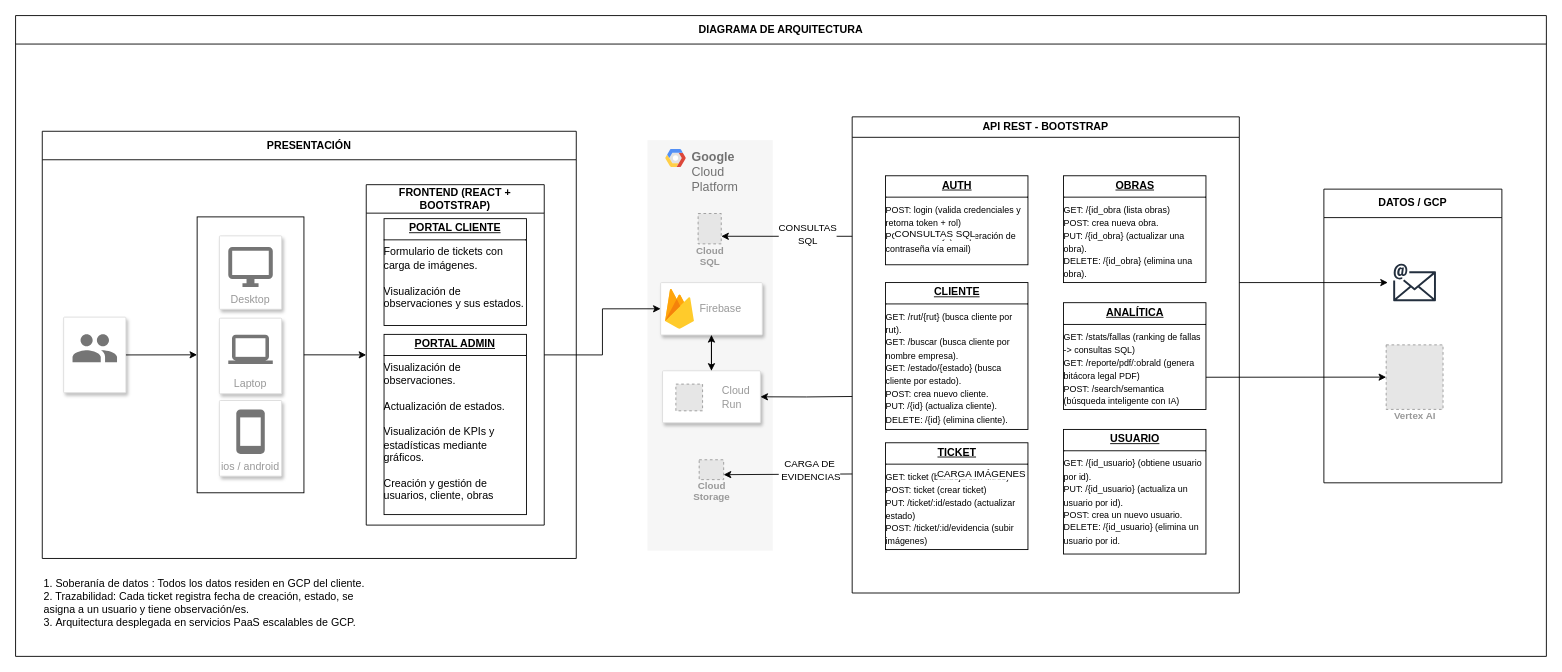
Some shapes in this 1562 by 672 pixel diagram are drawn without their labels. Grey dashed boxes stand in for pictures. The shapes that lost their labels are listed below. From the top down, each one's centre as x and y in pixels, then its label:
[1414,282]: SMPT / EMAIL
[95,356]: Usuario / Administrador
